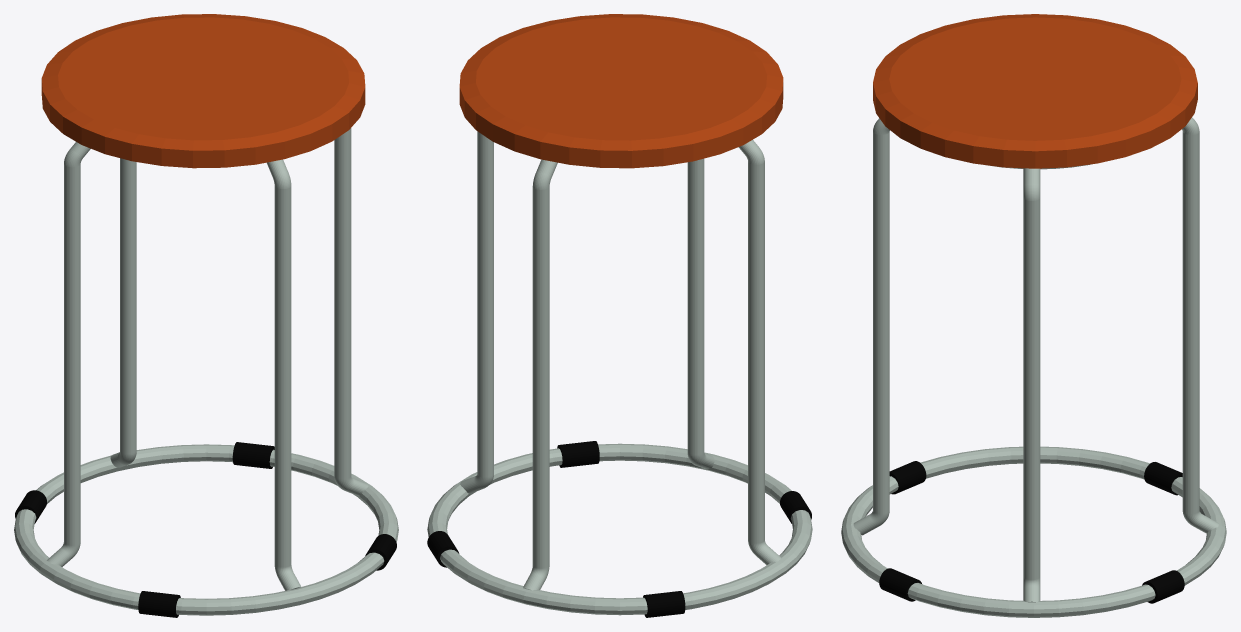
Rendered from Stool2(single).fbx.
3 renders of one model, left to right at view 1: azimuth 30°, elevation 25°; view 2: azimuth 150°, elevation 25°; view 3: azimuth 270°, elevation 25°, orthographic.
Visible parts, largest first — view 1: Cylinder; view 2: Cylinder; view 3: Cylinder.
Boxes of the visible parts, x1=… form: Cylinder: x1=14, y1=14, x2=398, y2=617; Cylinder: x1=427, y1=14, x2=812, y2=617; Cylinder: x1=841, y1=14, x2=1226, y2=617.
Size of the model in its own units: 45.73 by 60.5 by 45.73.
